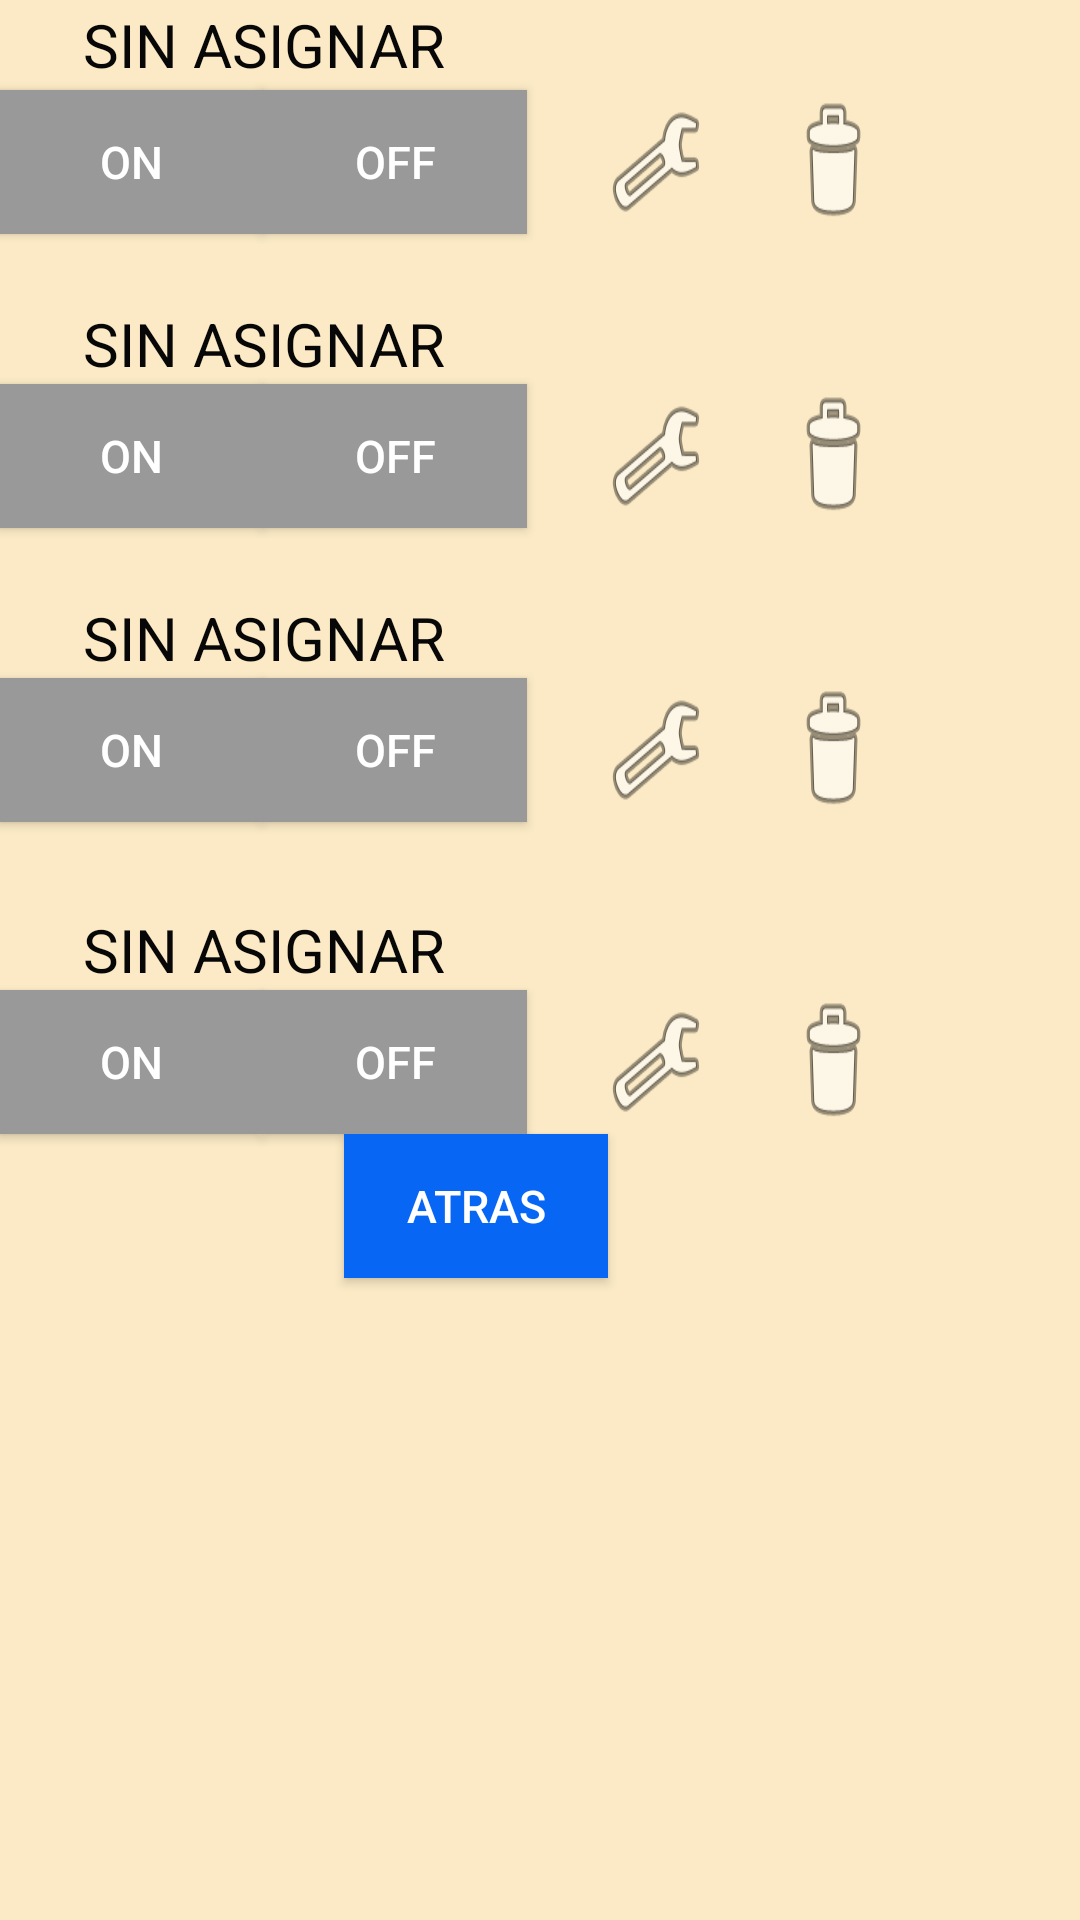

Where icons sit on this 1080×1920 app screen, as (x1, y1, x2, y2):
preferences: (613, 112, 699, 212), (613, 406, 699, 506), (613, 700, 699, 800), (613, 1012, 699, 1112)
